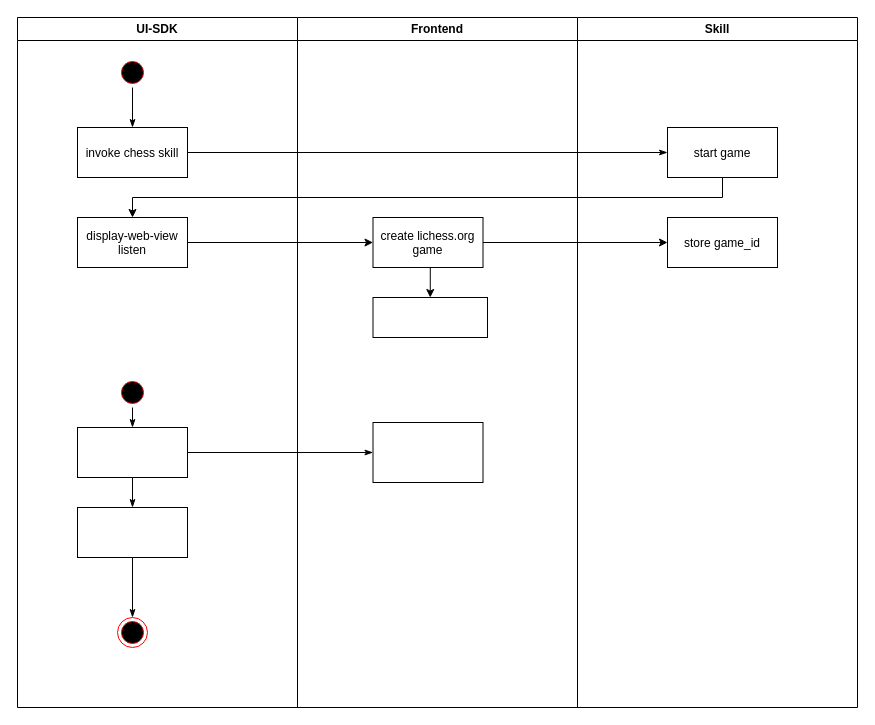
Image size: 875x725. Some labels were removed from this diagram. The shapes that lost their labels are listed below. From the top down, each one's centre as x and y in pixels, then its label:
At point 430,317: "show board".
At point 132,452: "move command".
At point 427,452: "lichess.org update & update board".
At point 132,532: "listen".
